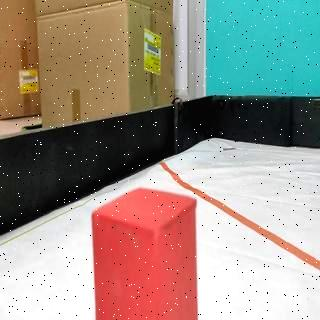redbox: (91, 186, 199, 320)
